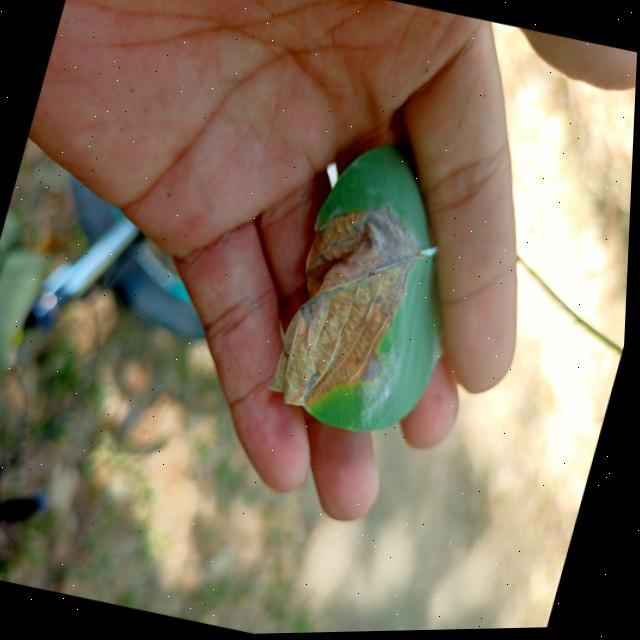Leaf-Blight: (270, 196, 434, 426), (287, 240, 288, 242)
